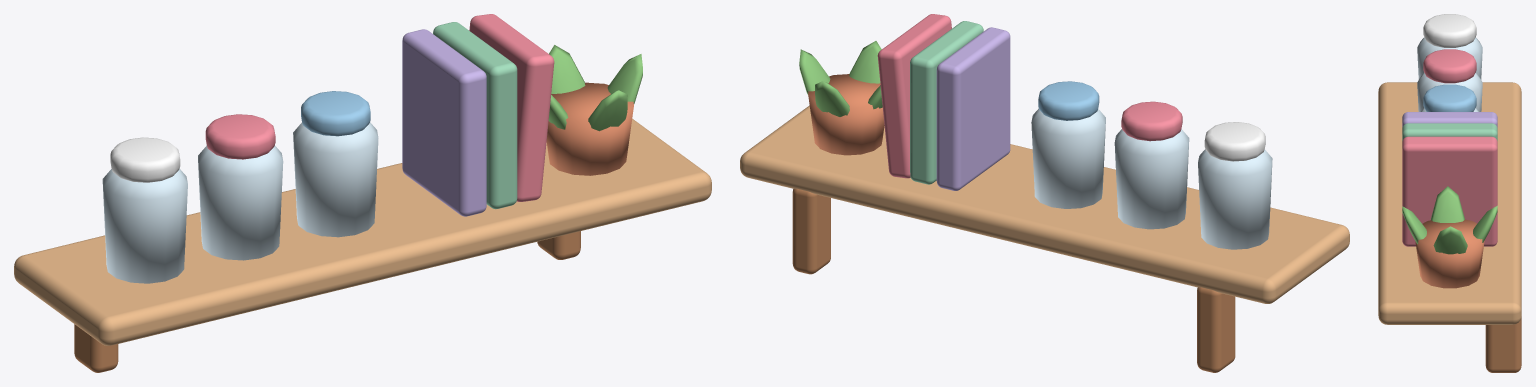
Rendered from shelf.glb.
The picture shows the model from 3 angles, left to right: view 1: azimuth 30°, elevation 25°; view 2: azimuth 150°, elevation 25°; view 3: azimuth 270°, elevation 25°; orthographic projection. The views are drawn at different scales.
Parts seen in each view (by area): view 1: Shelf; view 2: Shelf; view 3: Shelf.
Boxes of the visible parts, x1,y1,x2,y2 form: Shelf: [14, 14, 711, 372]; Shelf: [740, 14, 1349, 372]; Shelf: [1378, 14, 1521, 372].
Size of the model in its own units: 0.9 by 0.3705 by 0.24.
